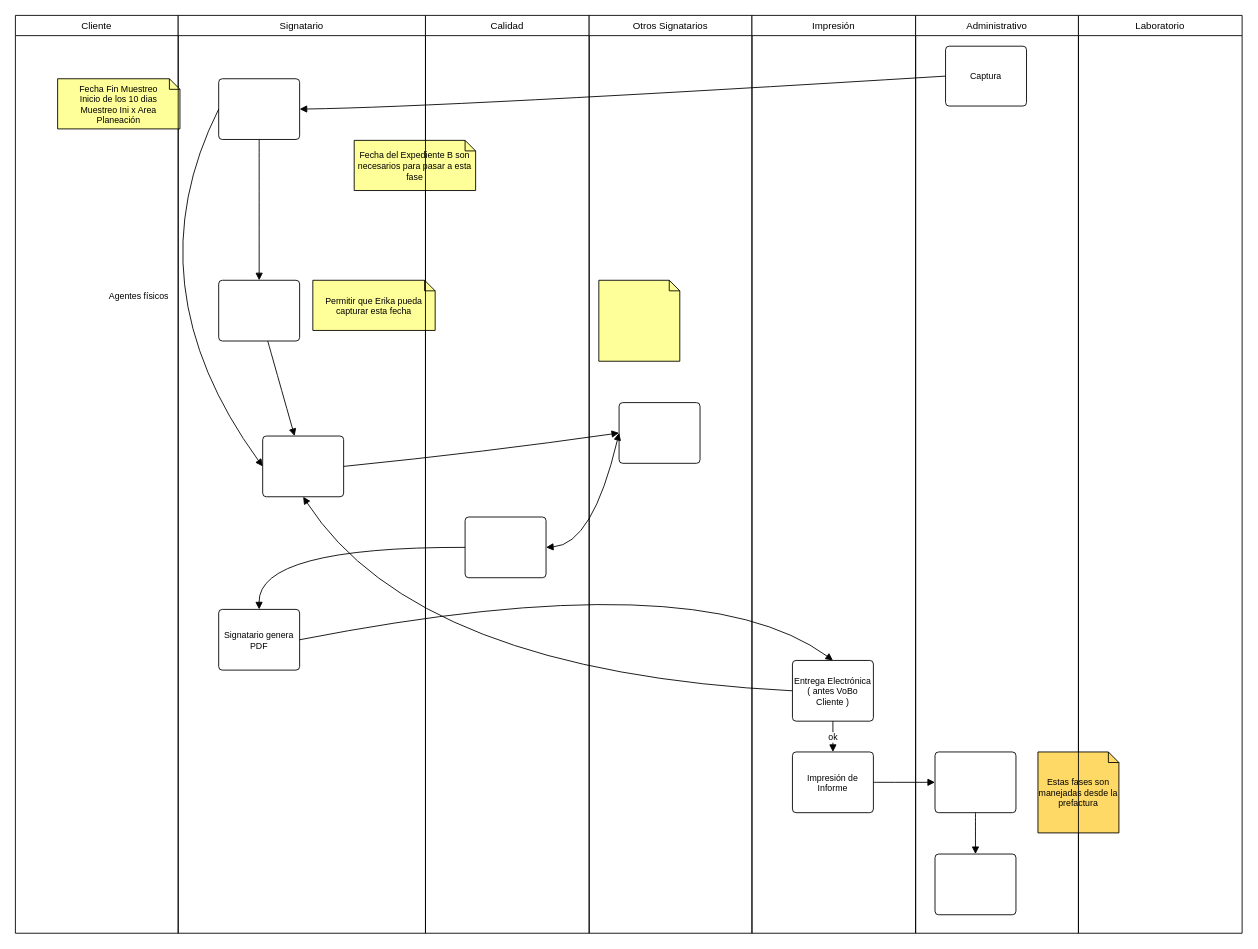
This 1258x949 diagram has some shape labels left out. Here are the shapes that lost their labels. From the top down, the box of each, then its label:
(218, 78, 300, 139): Muestreo
(218, 279, 300, 341): Espera Resultados Laboratorio
(598, 279, 680, 361): Control de calidad revisa editables
(618, 402, 700, 463): Rev. Cruzada
(262, 435, 344, 497): Generación de Informe
(464, 516, 546, 578): Control de Calidad del Informe (Ignacio) (PDF)
(934, 751, 1016, 813): Informe Entregado al Cliente
(934, 853, 1016, 915): Cerrada
